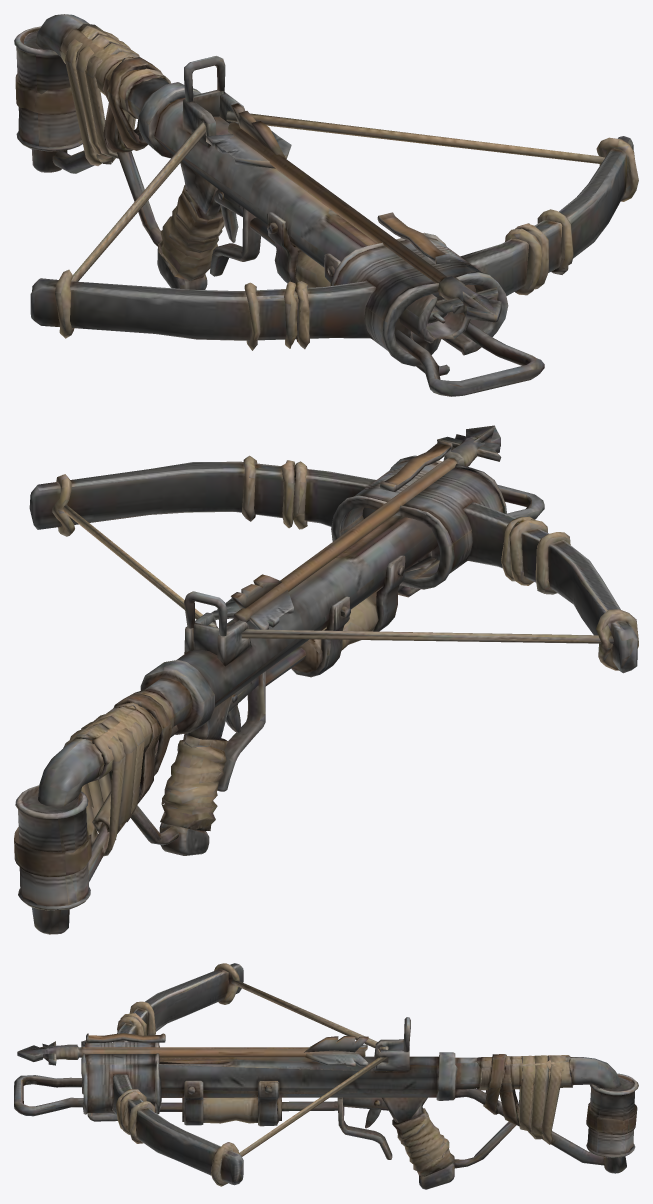
Rendered from crossbow.glb.
3 views of the same model, one above another, from view 1: azimuth 30°, elevation 25°; view 2: azimuth 150°, elevation 25°; view 3: azimuth 270°, elevation 25° (orthographic). The views are drawn at different scales.
Visible parts, largest first — view 1: w_crossbow; view 2: w_crossbow; view 3: w_crossbow.
Part boxes in pixels (left/top/right/bottom): w_crossbow: left=14, top=14, right=638, bottom=396; w_crossbow: left=14, top=425, right=638, bottom=934; w_crossbow: left=14, top=963, right=638, bottom=1189.
Size of the model in its own units: 0.5248 by 0.2046 by 0.7.
1 material, 1 textured.
